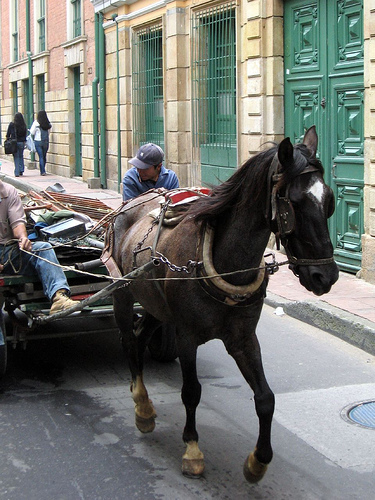horse: (101, 135, 337, 485)
